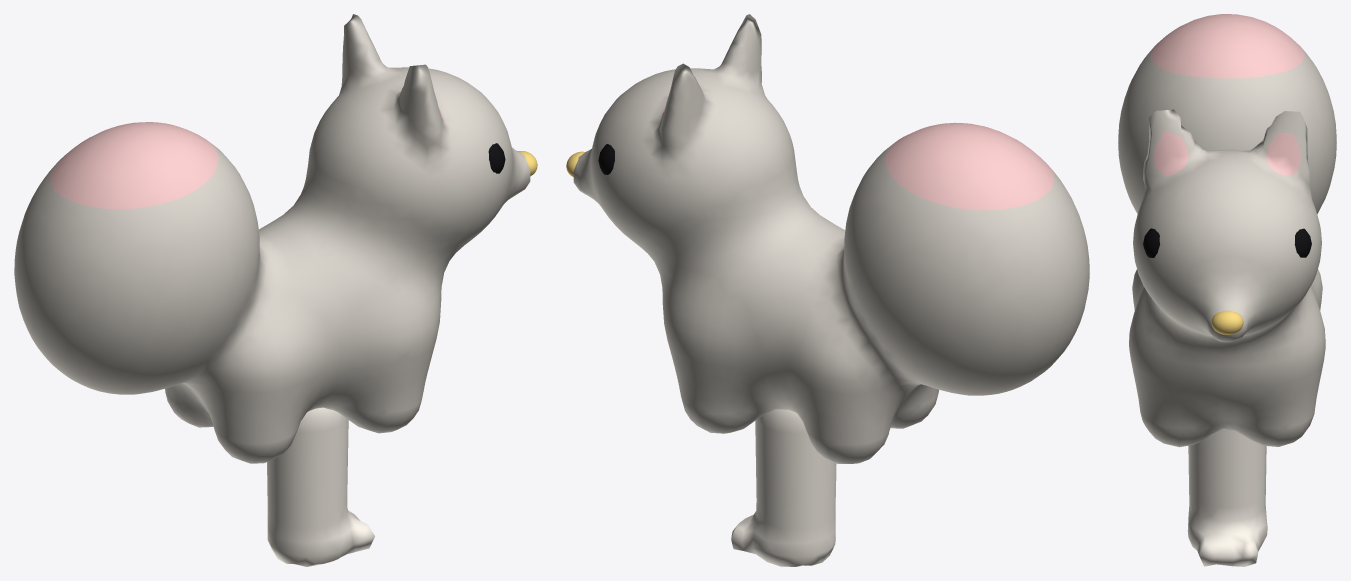
File: arcticFox_baby.glb
3 renders of one model, left to right at view 1: azimuth 30°, elevation 25°; view 2: azimuth 150°, elevation 25°; view 3: azimuth 270°, elevation 25°, orthographic. The views are drawn at different scales.
Parts seen in each view (by area): view 1: body, leg; view 2: body, leg; view 3: body, leg, eye, beak.
Boxes of the visible parts, x1,y1,x2,y2 form: body: [14, 14, 530, 463]; leg: [267, 407, 374, 566]; body: [573, 14, 1089, 463]; leg: [731, 409, 836, 566]; body: [1118, 14, 1336, 447]; leg: [1187, 428, 1267, 566]; eye: [1143, 228, 1311, 257]; beak: [1211, 310, 1243, 334].
Size of the model in its own units: 2.26 by 2.11 by 0.8791.
